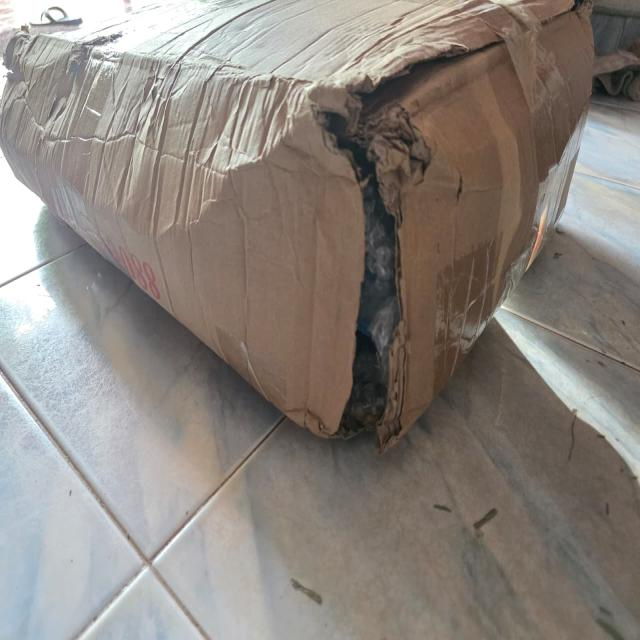carton_box: (0, 0, 599, 459)
package_damage: (276, 35, 478, 465), (0, 9, 174, 160), (317, 0, 620, 60)
